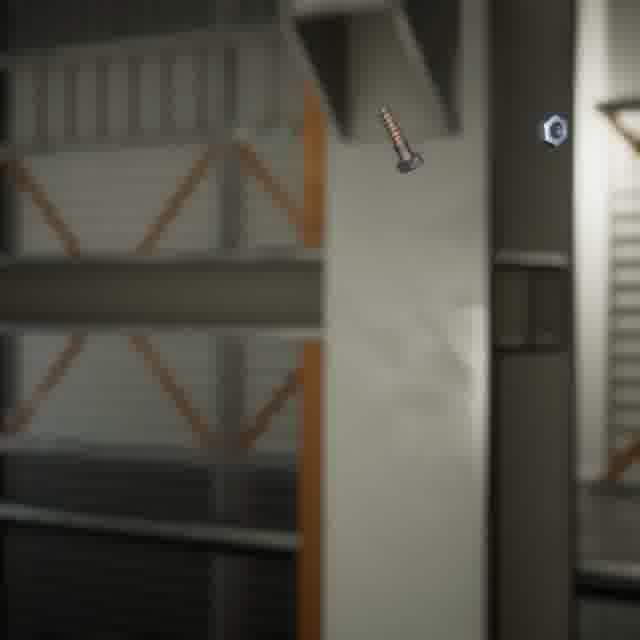bolt: (374, 102, 426, 177)
nut: (533, 110, 573, 151)
